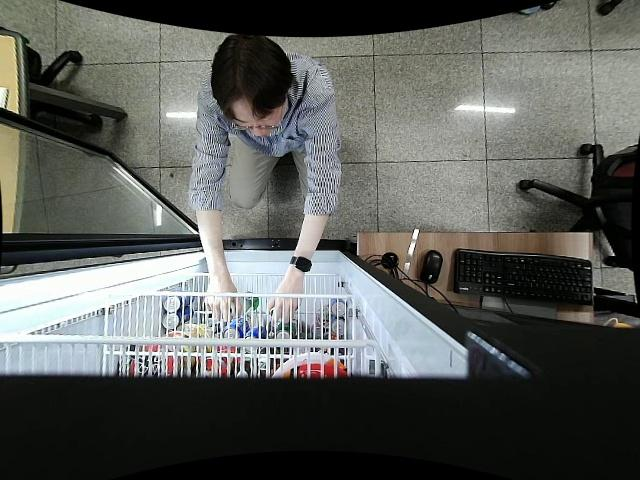00_hand: (205, 281, 242, 323), (268, 279, 303, 323)
18_trevi: (230, 289, 258, 316)
